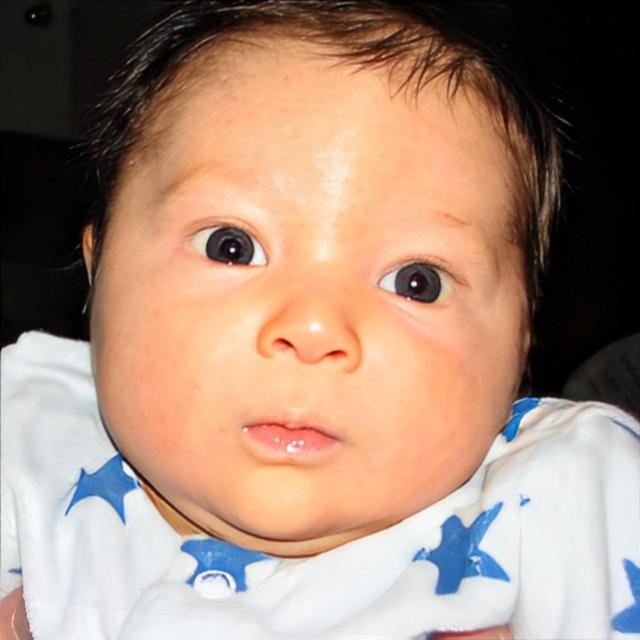fear: (103, 61, 527, 542)
